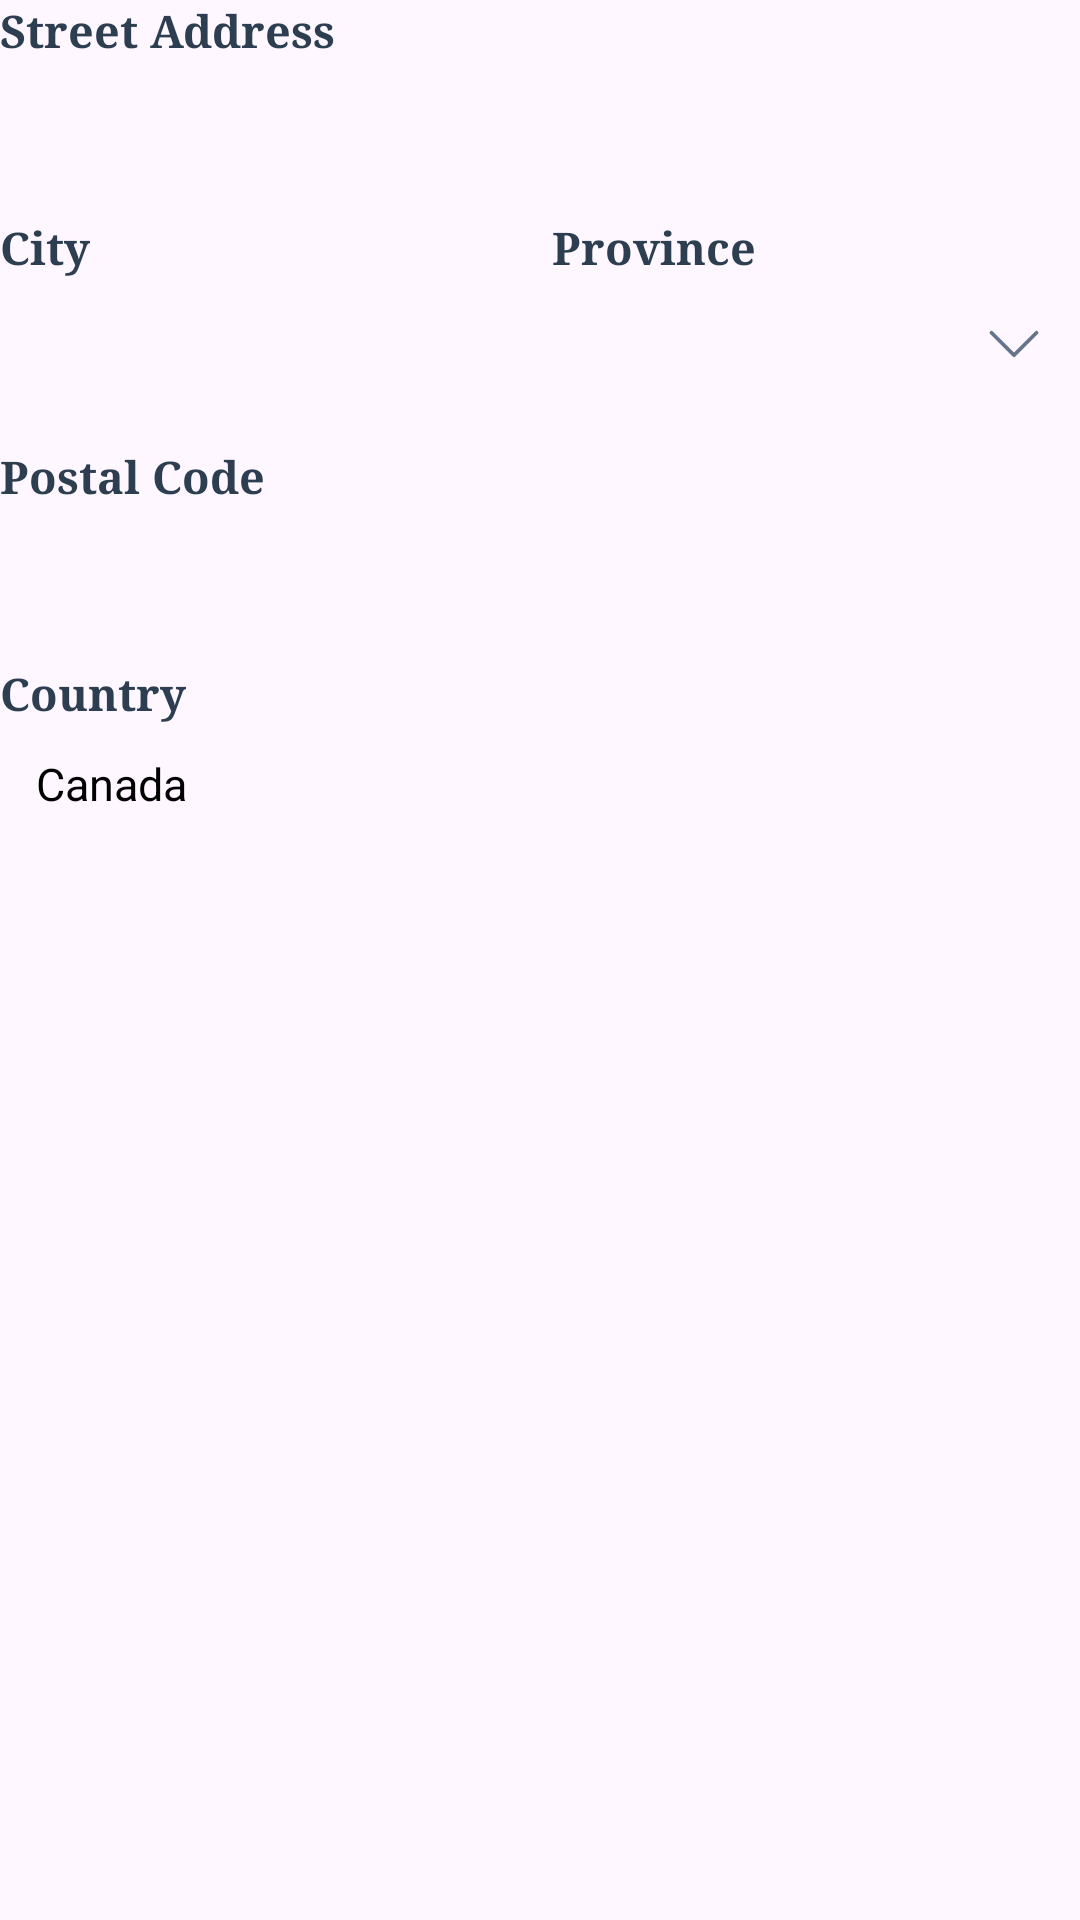

Where icons sit on this 1080×1920 app screen, as (x1=x1, y1=y1, x2=x2, y2=y2):
abajo: (x1=989, y1=330, x2=1039, y2=357)
